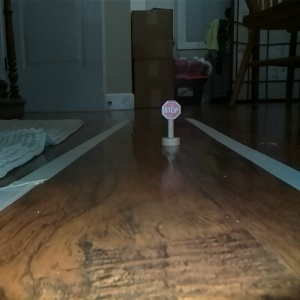stop sign: (158, 98, 183, 151)
